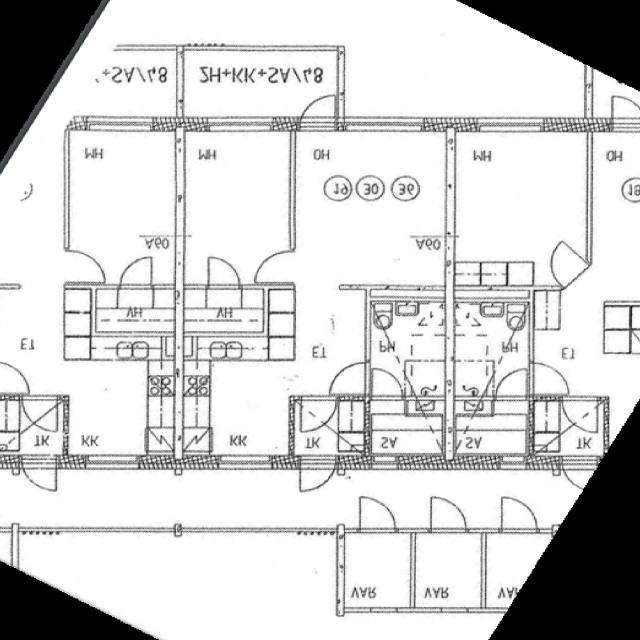door: (301, 454, 335, 500), (301, 87, 335, 131), (302, 395, 336, 432), (256, 252, 296, 282), (331, 363, 370, 393), (372, 368, 402, 401), (209, 258, 239, 289)
